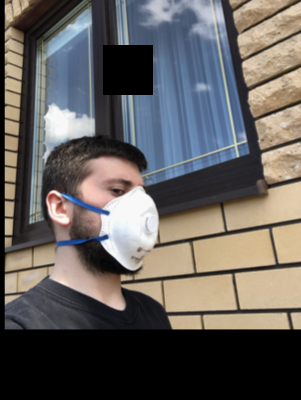with_mask: (90, 173, 160, 275)
